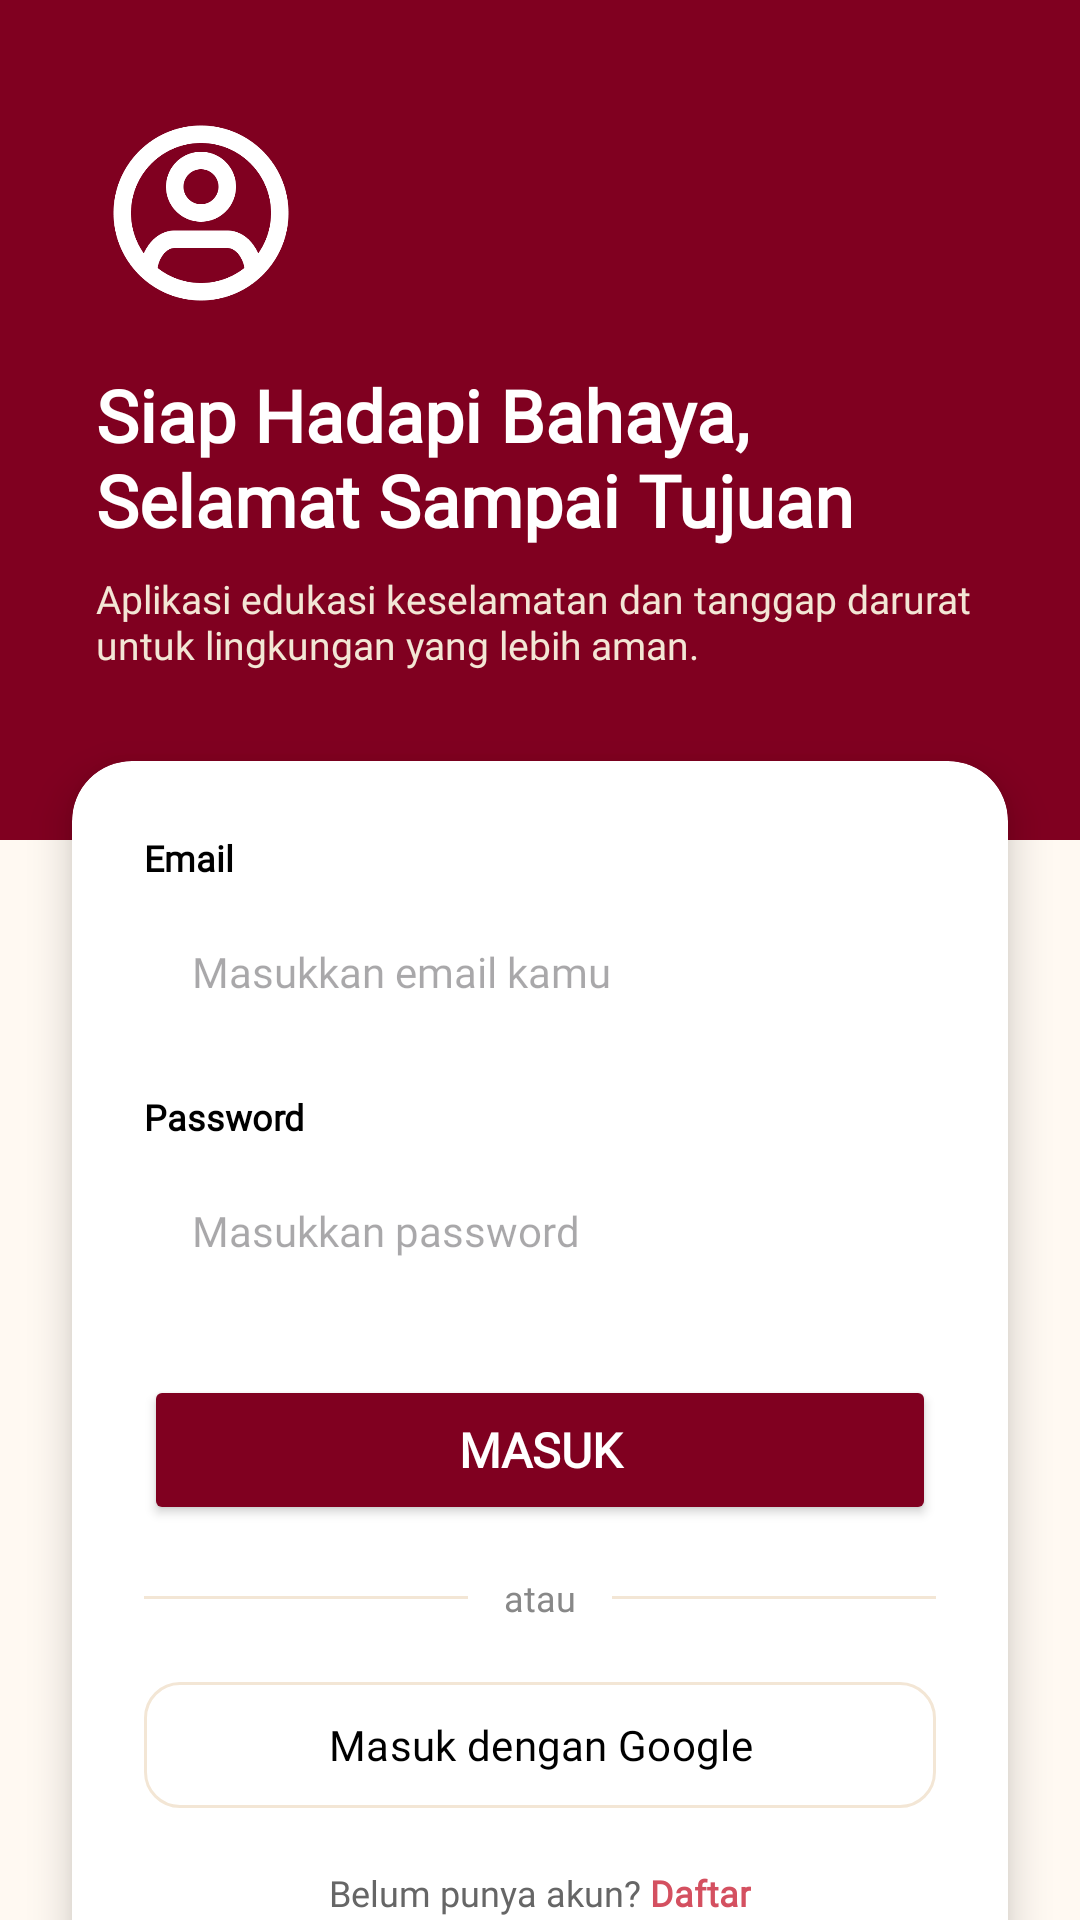

Where to tap for icons on this 1080 × 1920 app screen, as point (x, y):
user: point (201, 213)
